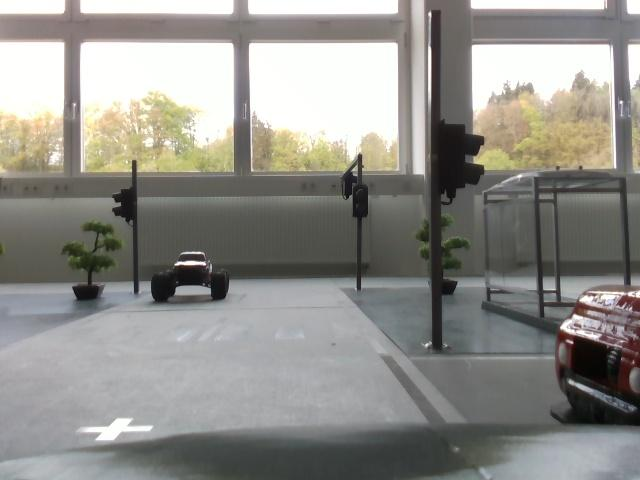car: (554, 279, 640, 436), (150, 246, 231, 301)
potted plant: (417, 214, 465, 304), (67, 216, 117, 298)
traffic light: (429, 124, 486, 196), (116, 186, 139, 218), (341, 170, 359, 196), (356, 184, 367, 222)
